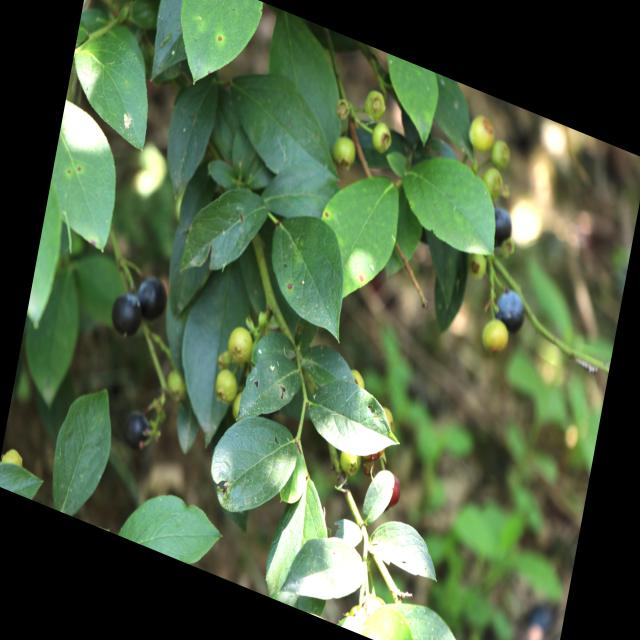blueberry: (106, 285, 146, 345), (492, 282, 530, 338), (136, 271, 172, 327), (481, 201, 516, 254), (120, 406, 154, 452)
blueberry-halfripe: (378, 468, 405, 514)
blueberry-unripe: (224, 320, 260, 372), (478, 311, 514, 361), (464, 108, 499, 156), (327, 128, 360, 176), (478, 157, 508, 203), (212, 362, 240, 407), (367, 115, 396, 157), (361, 82, 388, 124), (337, 441, 363, 479), (490, 134, 514, 172), (377, 401, 397, 434), (348, 366, 368, 394)
